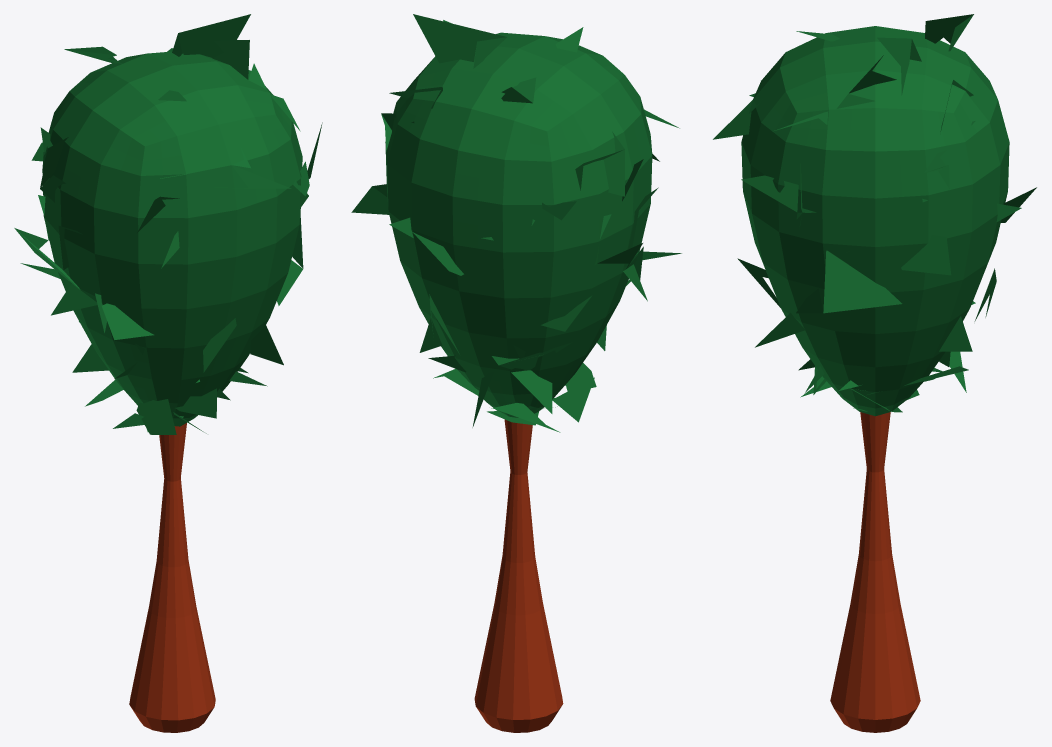
The model's file is G477FinalRoundedTrees.fbx.
3 views of the same model, side by side, from view 1: azimuth 30°, elevation 25°; view 2: azimuth 150°, elevation 25°; view 3: azimuth 270°, elevation 25° (orthographic). The views are drawn at different scales.
Parts seen in each view (by area): view 1: Cube.003, Cylinder.002; view 2: Cube.003, Cylinder.002; view 3: Cube.003, Cylinder.002.
Part boxes in pixels (x1,y1,x2,y2): Cube.003: (14,14,322,434); Cylinder.002: (129,423,215,732); Cube.003: (351,14,681,432); Cylinder.002: (474,419,563,732); Cube.003: (713,14,1036,416); Cylinder.002: (830,412,920,732).
Bounding box in the file's own units: 166 × 401 × 169.
